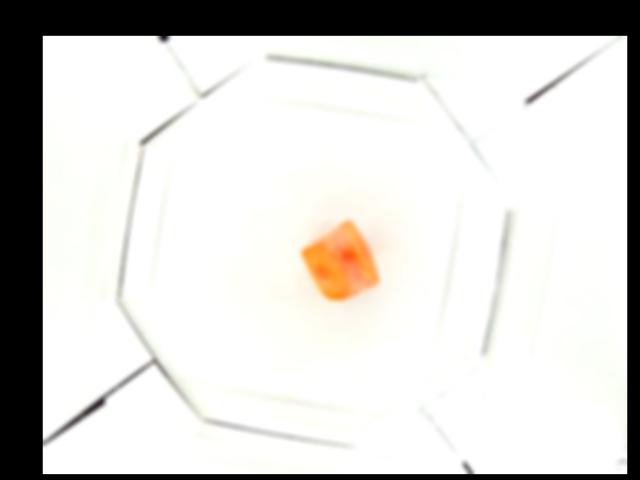Carrot: (302, 221, 377, 300)
